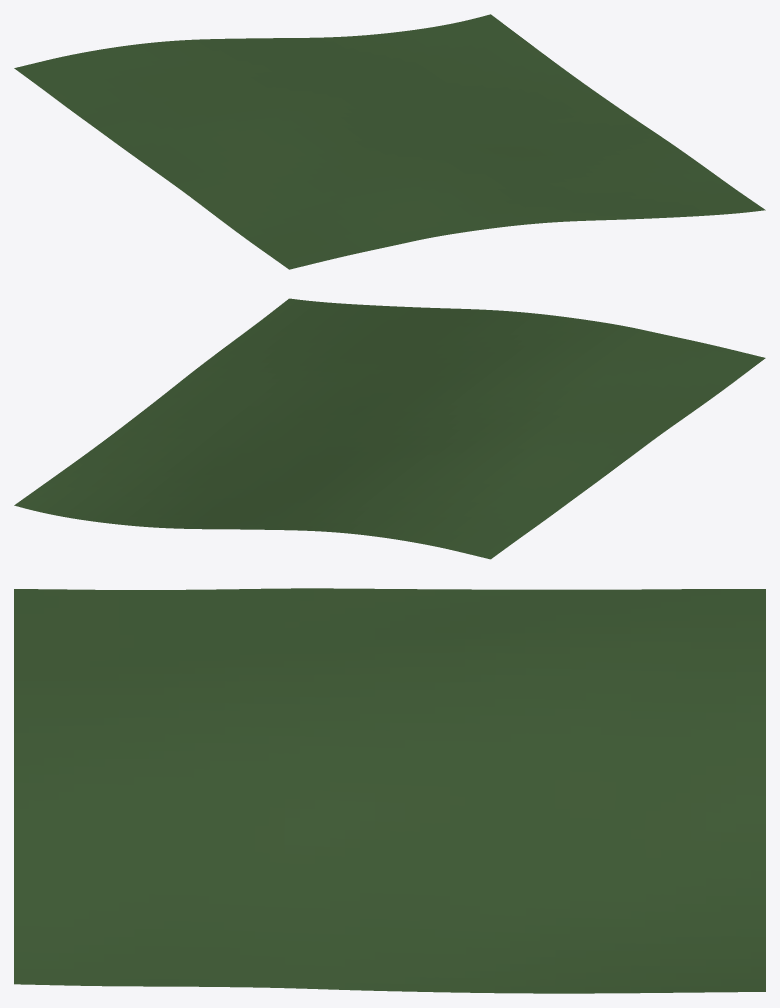
Rendered from chunk4-3_LOD0.obj.
3 views of the same model, one above another, from view 1: azimuth 30°, elevation 25°; view 2: azimuth 150°, elevation 25°; view 3: azimuth 270°, elevation 25° (orthographic). The views are drawn at different scales.
Visible parts, largest first — view 1: Terrain; view 2: Terrain; view 3: Terrain.
Part boxes in pixels (<box>): Terrain: <box>14,14,765,269</box>; Terrain: <box>14,298,765,559</box>; Terrain: <box>14,588,765,993</box>.
Size of the model in its own units: 4000 by 513 by 4000.
